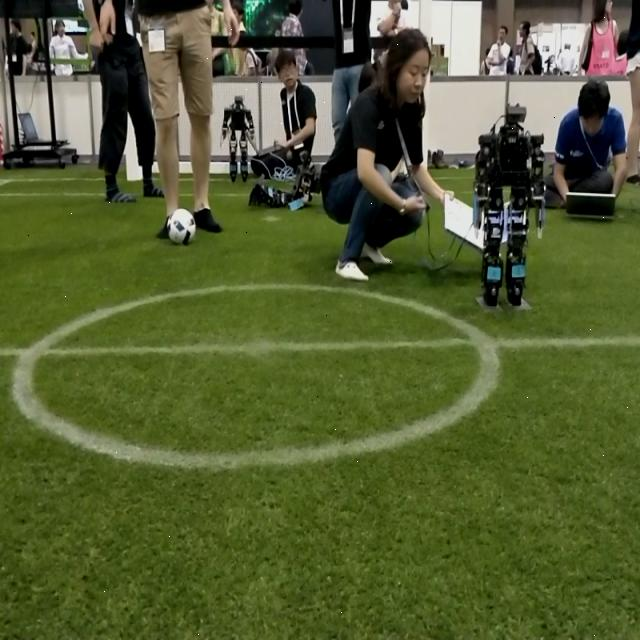ball: (166, 209, 196, 246)
goalpost: (126, 107, 142, 179)
